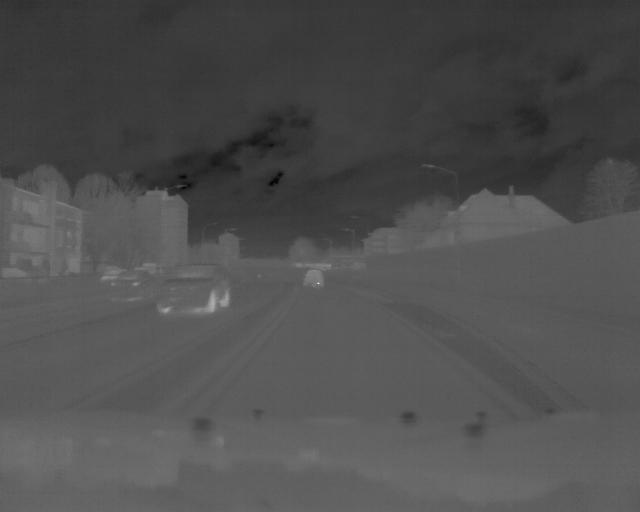car: (158, 263, 232, 315), (106, 269, 155, 304), (302, 266, 327, 292)
